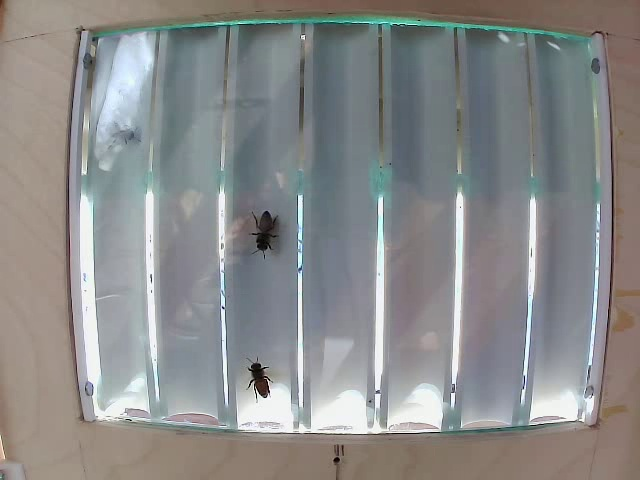bee: (247, 210, 290, 258), (247, 363, 274, 398)
